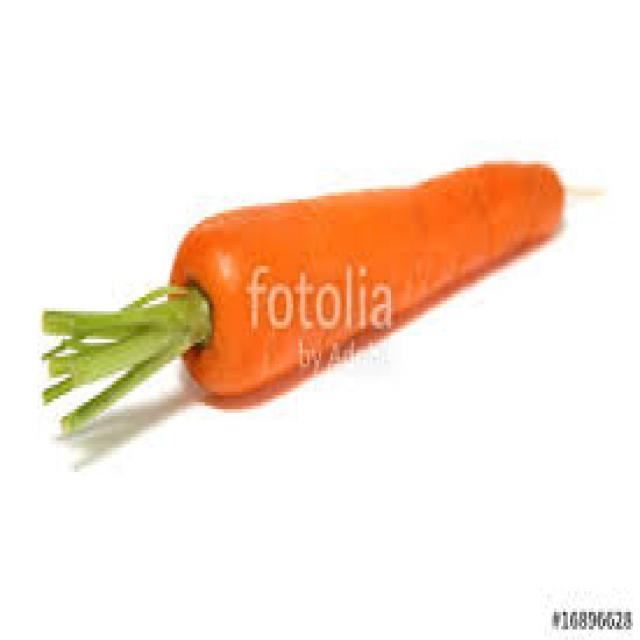organic waste: (168, 161, 563, 395), (42, 276, 209, 427)
